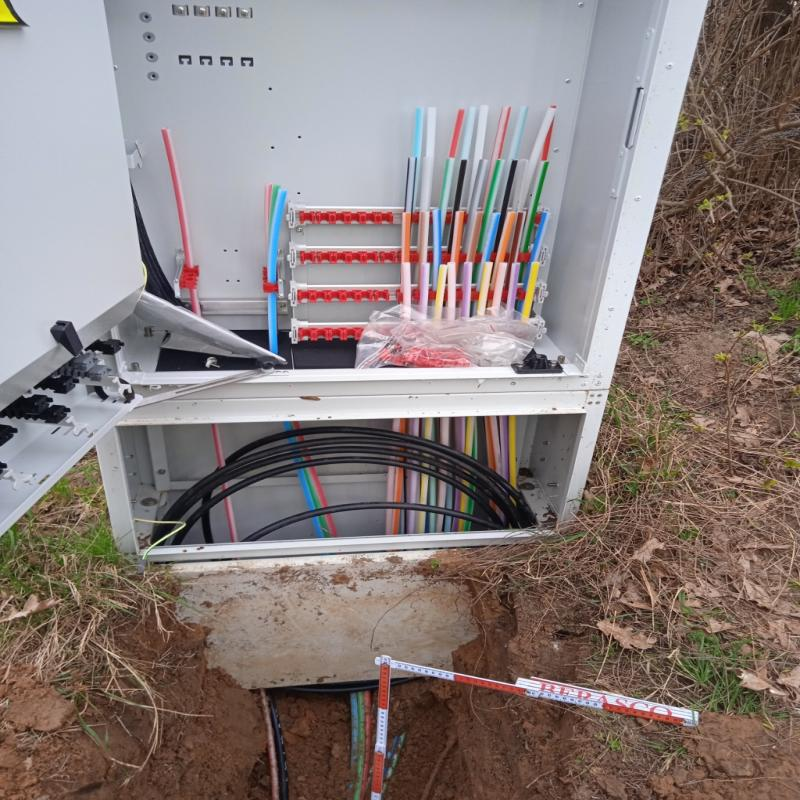NT-Gehause: (2, 1, 697, 556)
